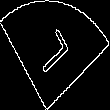L_SW: (33, 27, 77, 83)
